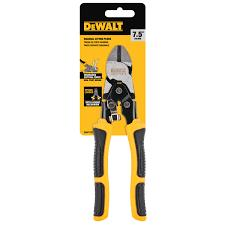pliers: (91, 43, 146, 221)
